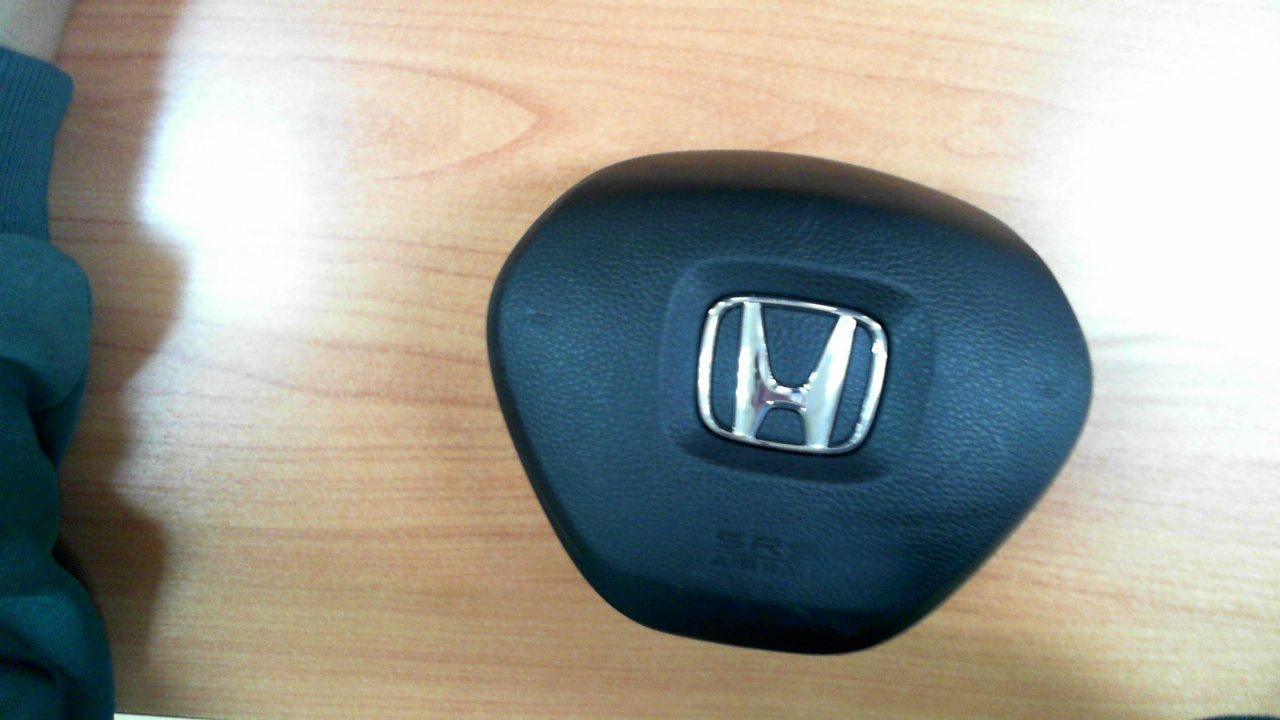Airbag: (484, 150, 1094, 657)
Honda: (696, 295, 889, 455)
